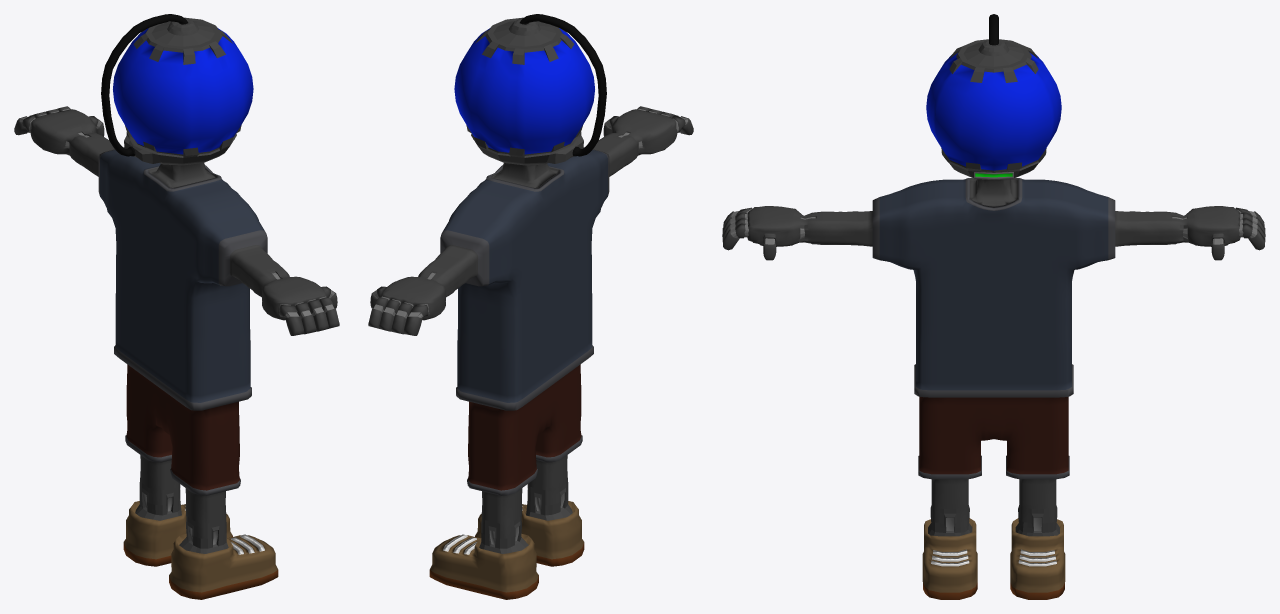
Rendered from ROBO_Aquario_Definitivo(sem esq).fbx.
3 renders of one model, left to right at view 1: azimuth 30°, elevation 25°; view 2: azimuth 150°, elevation 25°; view 3: azimuth 270°, elevation 25°, orthographic. The views are drawn at different scales.
Visible parts, largest first — view 1: robo; view 2: robo; view 3: robo.
Part boxes in pixels (x1=…): robo: x1=14, y1=14, x2=339, y2=599; robo: x1=368, y1=14, x2=693, y2=599; robo: x1=722, y1=14, x2=1265, y2=599.
Size of the model in its own units: 167 by 610 by 558.
